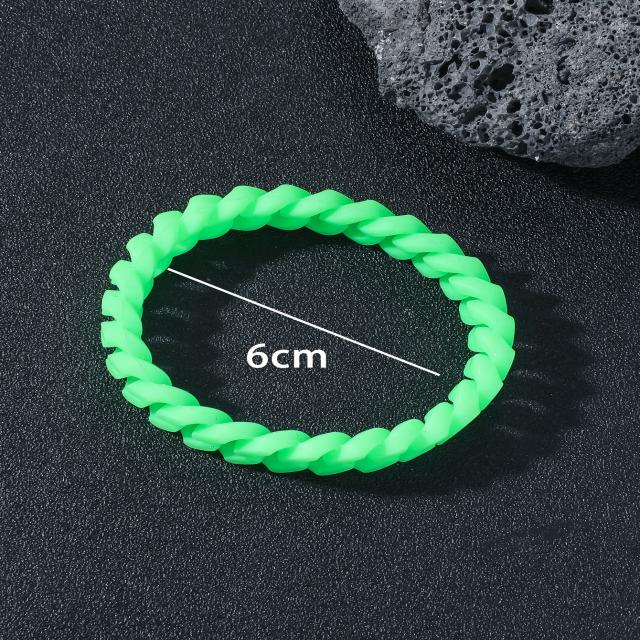bracelet: (64, 116, 582, 499)
